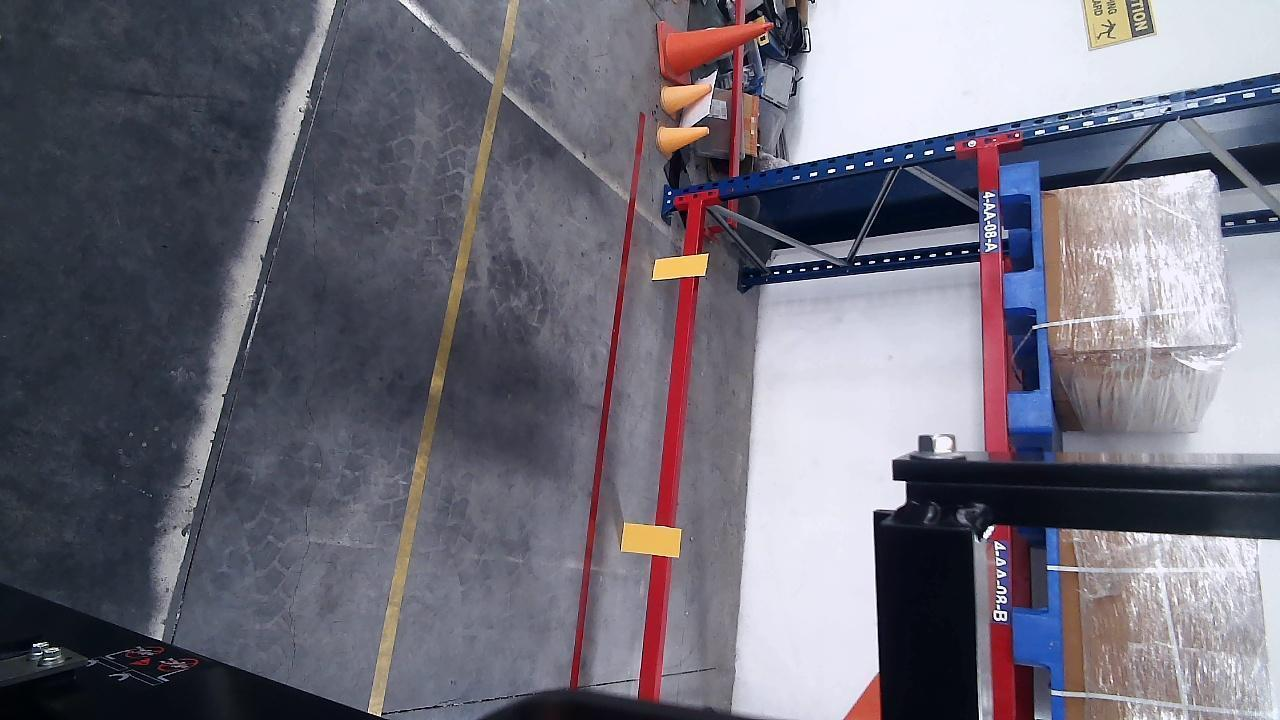red_line: (569, 111, 647, 685)
yellow_line: (366, 0, 521, 718)
